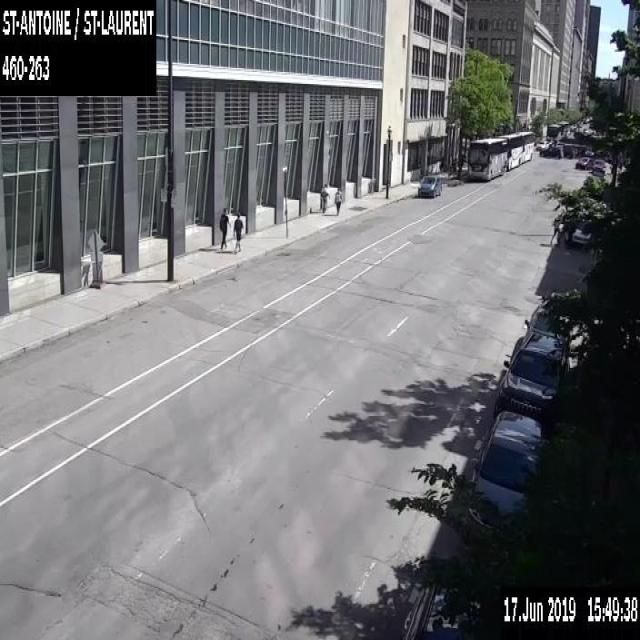bus: (466, 137, 507, 181), (495, 133, 522, 169), (509, 130, 534, 162), (546, 123, 561, 143), (556, 120, 568, 139)
construction: (86, 228, 105, 288)
pedestrian: (218, 205, 230, 247), (232, 212, 244, 251), (549, 215, 561, 244), (321, 181, 329, 212), (334, 187, 341, 213), (553, 136, 556, 145)
vehicle: (467, 408, 549, 530), (493, 329, 570, 421), (523, 302, 570, 346), (417, 174, 441, 198), (564, 226, 592, 246), (538, 145, 562, 158), (574, 156, 594, 169), (592, 158, 605, 174), (562, 145, 576, 157), (592, 170, 604, 182), (535, 140, 549, 150), (584, 146, 593, 155), (544, 136, 552, 146)
